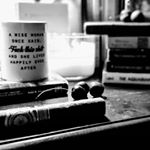cups: (1, 20, 50, 83)
